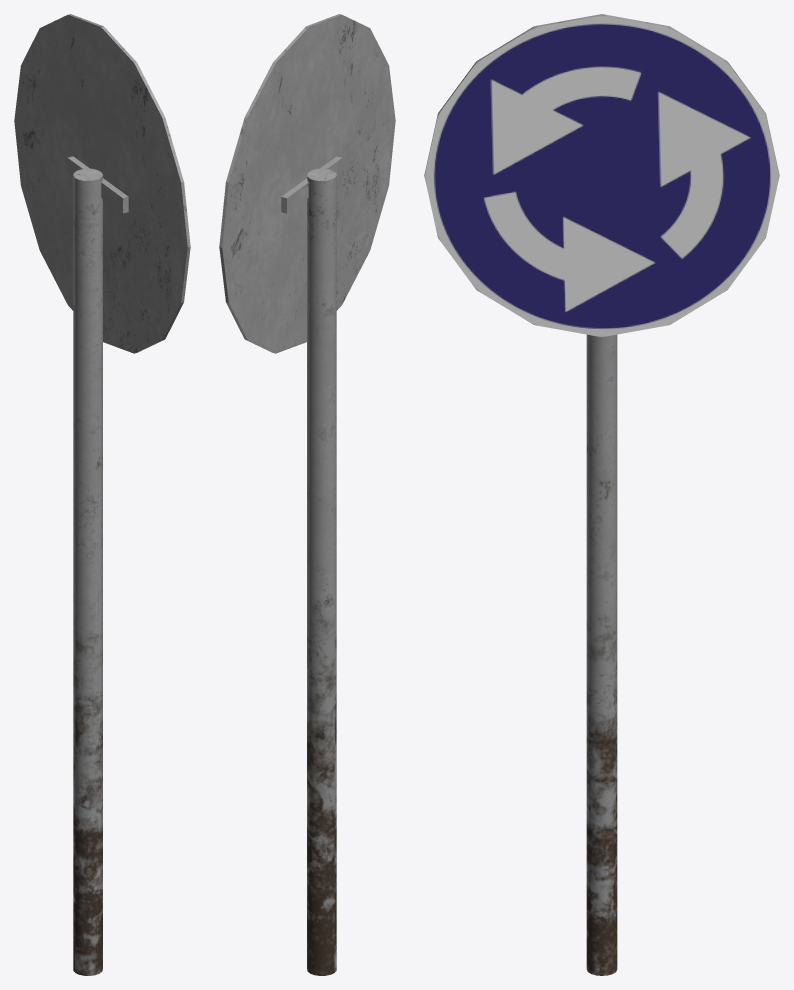
Rendered from sign_2.fbx.
3 renders of one model, left to right at view 1: azimuth 30°, elevation 25°; view 2: azimuth 150°, elevation 25°; view 3: azimuth 270°, elevation 25°, orthographic. The views are drawn at different scales.
Visible parts, largest first — view 1: signs.001; view 2: signs.001; view 3: signs.001.
Part boxes in pixels (box(x1,y1,x2,y2)): signs.001: box(14, 14, 190, 975); signs.001: box(219, 14, 395, 975); signs.001: box(424, 14, 779, 975).
Bounding box in the file's own units: 7.58 × 236 × 79.1.
1 material, 1 textured.
